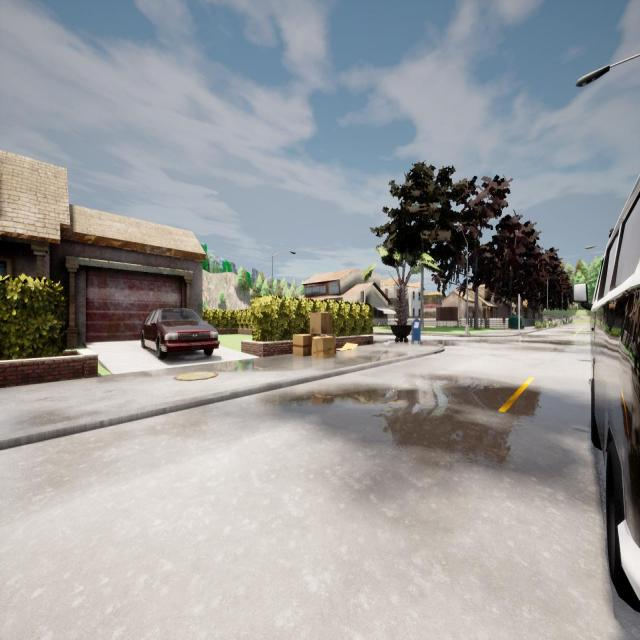Vehicle: (574, 172, 640, 612), (141, 308, 219, 359)
traffic_light: (360, 291, 364, 302), (518, 297, 522, 308)
